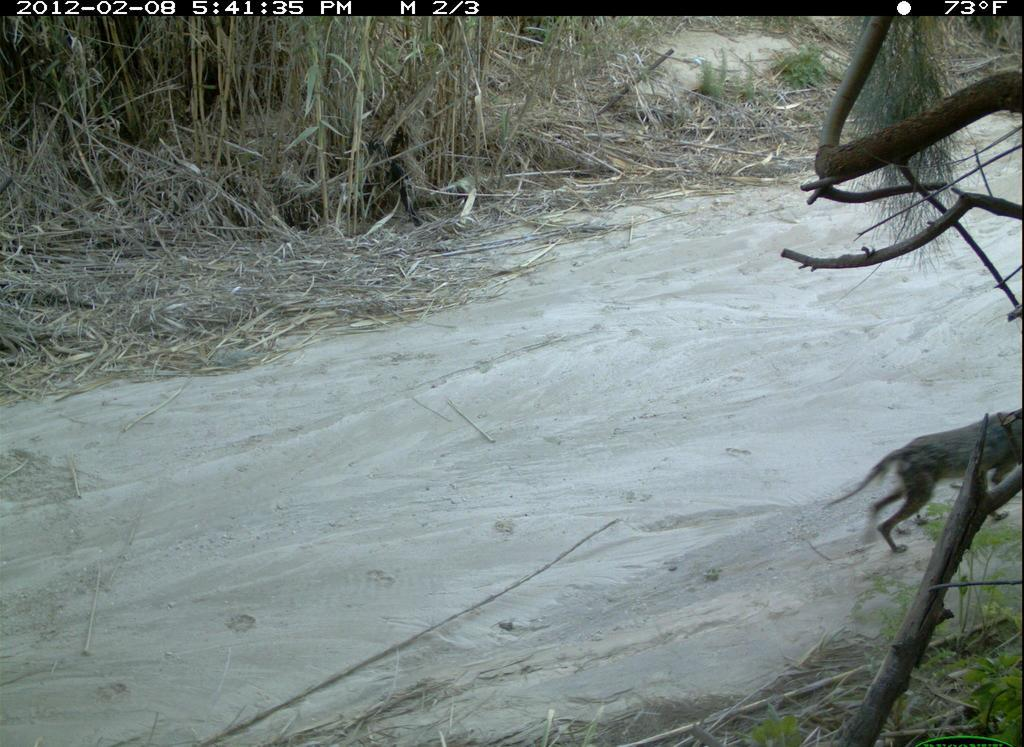coyote: (825, 405, 1022, 559)
